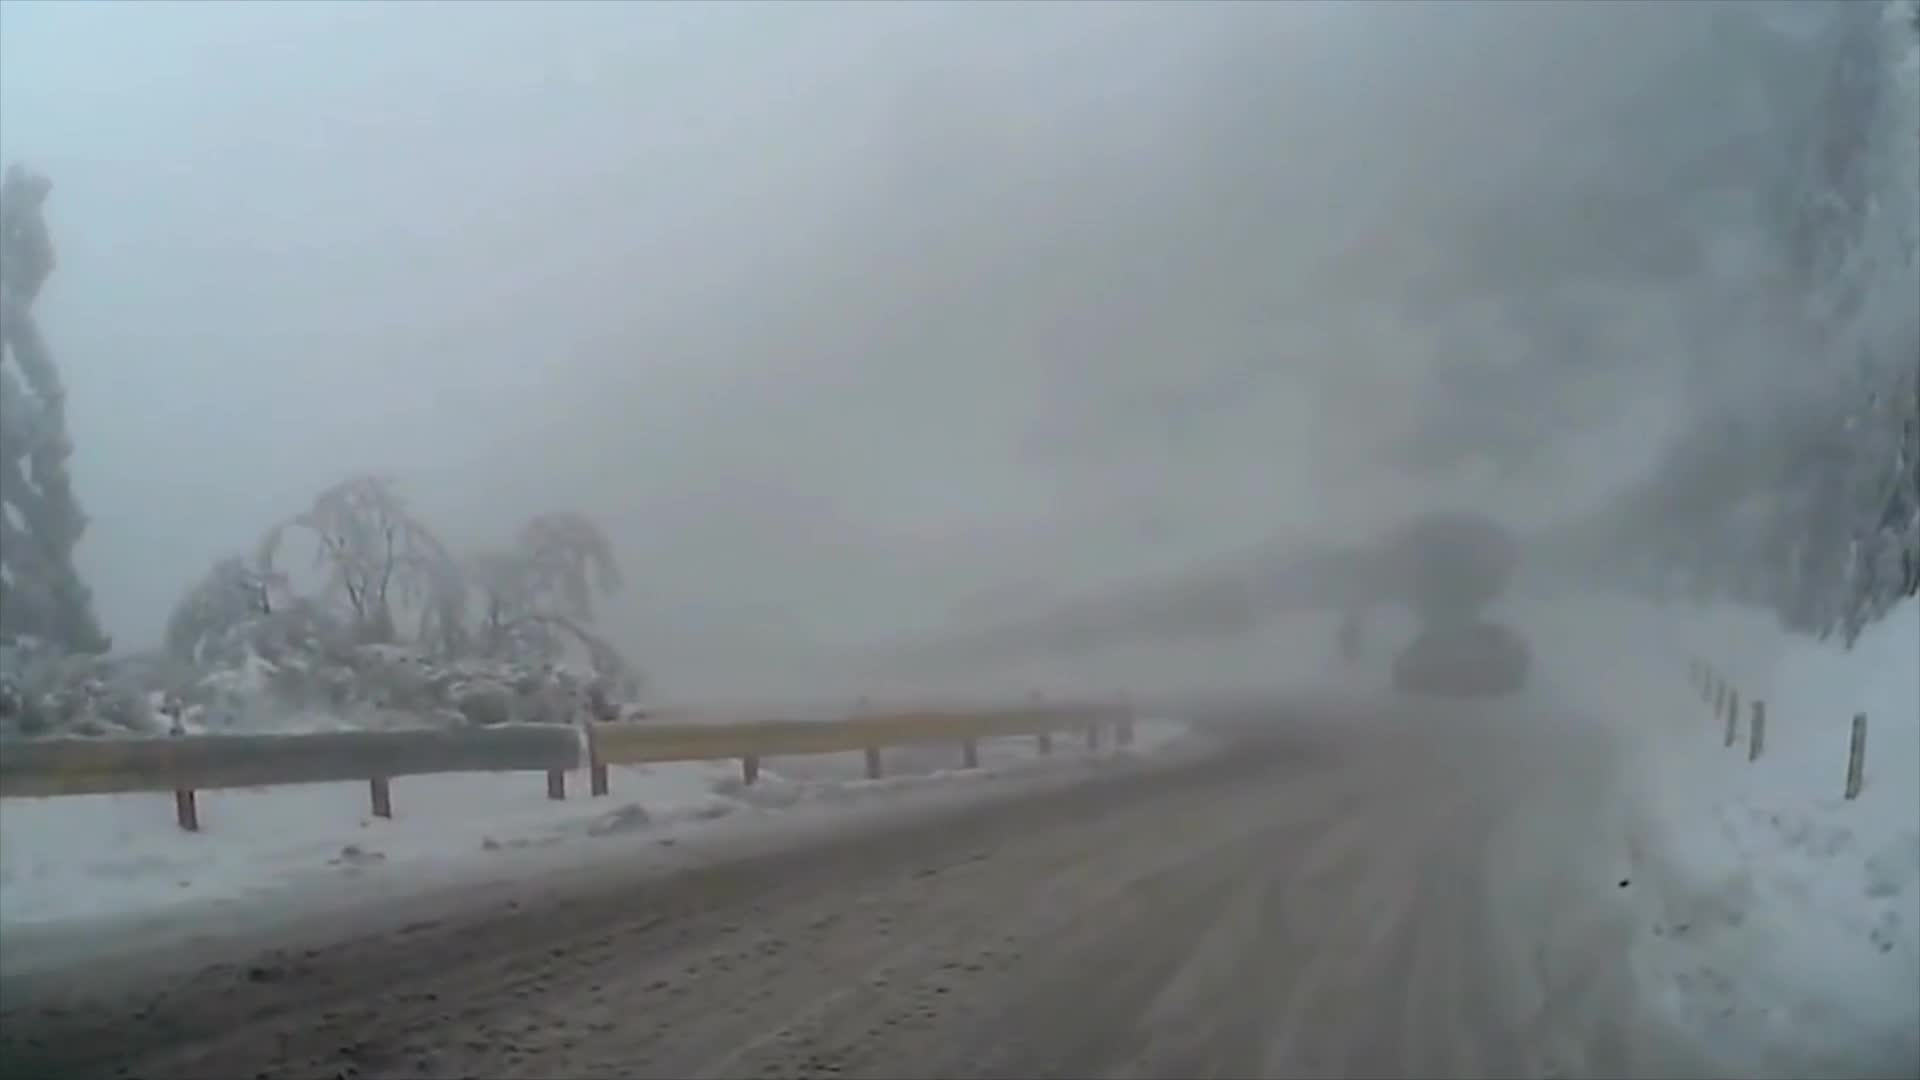vehicle: (1391, 622, 1530, 698)
